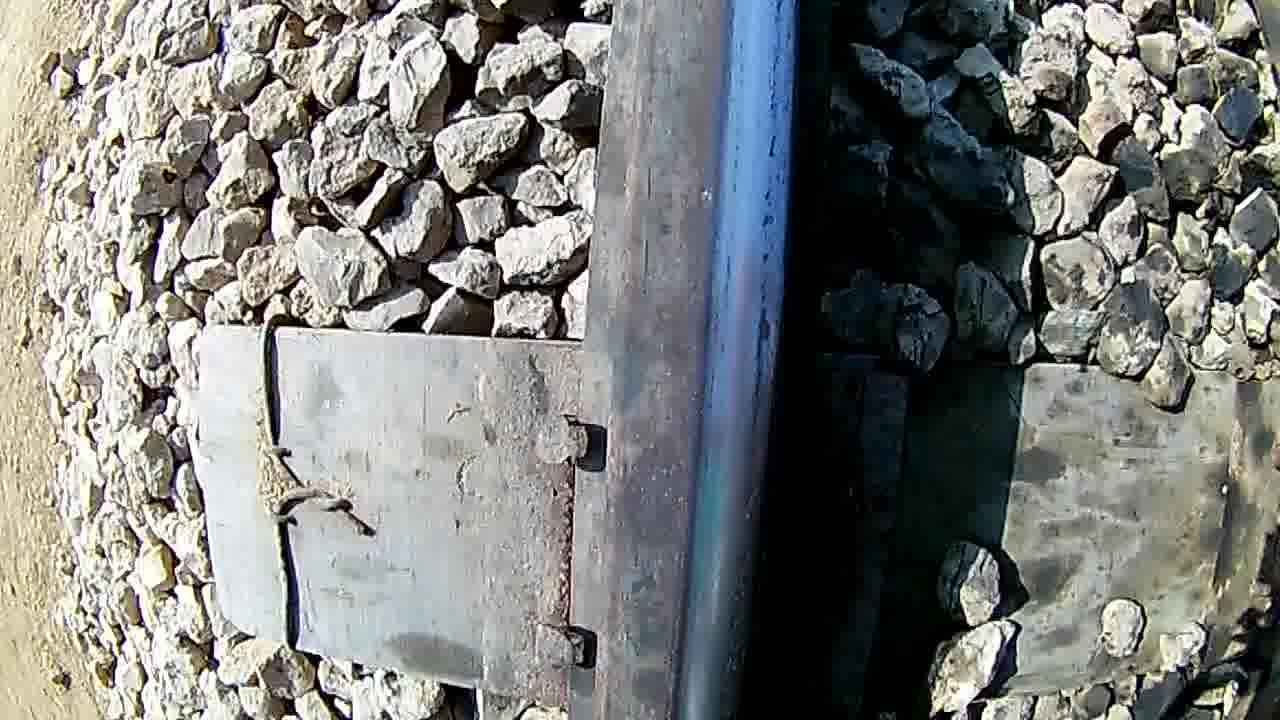crack: (628, 0, 798, 720)
